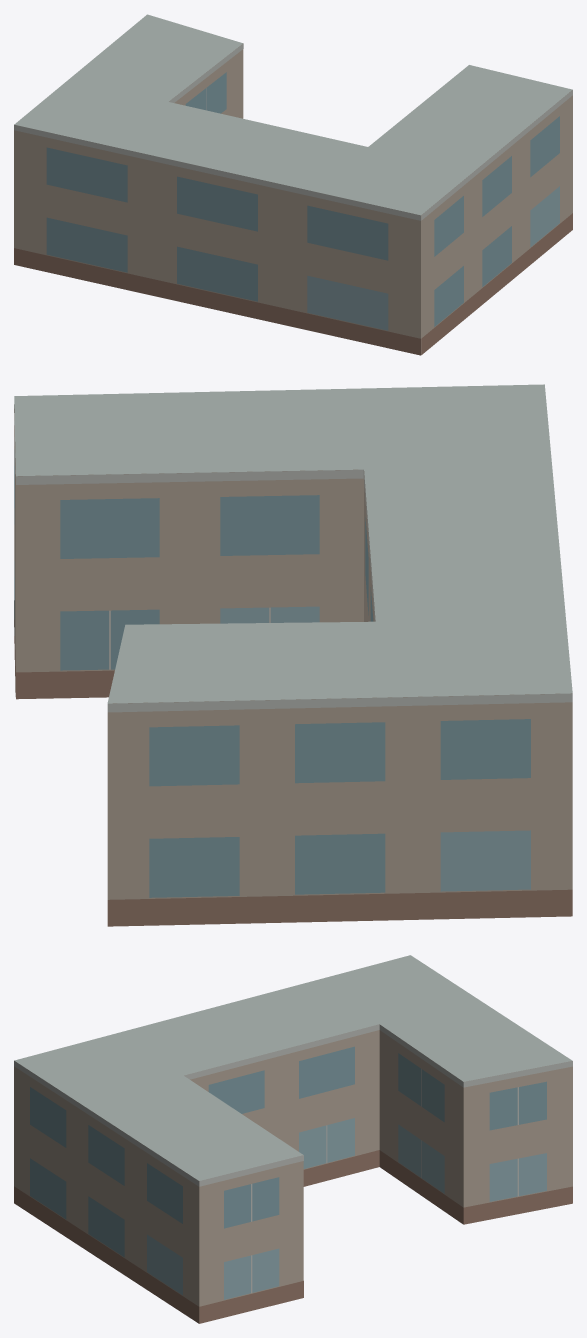
File: survey-upis-32947564.glb
The picture shows the model from 3 angles, top to bottom: view 1: azimuth 30°, elevation 25°; view 2: azimuth 150°, elevation 25°; view 3: azimuth 270°, elevation 25°; orthographic projection. The views are drawn at different scales.
Visible parts, largest first — view 1: survey-upis-32947564.tmp; view 2: survey-upis-32947564.tmp; view 3: survey-upis-32947564.tmp.
Boxes of the visible parts, <box> form: survey-upis-32947564.tmp: <box>14,14,572,355</box>; survey-upis-32947564.tmp: <box>14,384,572,926</box>; survey-upis-32947564.tmp: <box>14,955,572,1323</box>.
Size of the model in its own units: 20.73 by 6.1 by 21.65.
